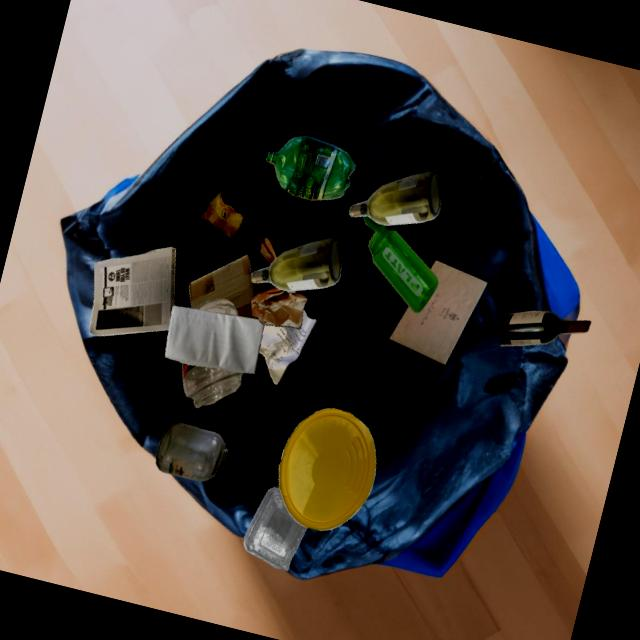biowaste: (201, 192, 243, 239)
cardboard: (188, 254, 267, 319)
glass: (349, 171, 440, 225), (251, 238, 341, 291), (155, 422, 228, 481), (500, 310, 590, 346), (181, 362, 243, 408)
paper: (388, 260, 487, 364), (89, 247, 175, 336), (164, 305, 264, 373), (258, 308, 316, 384), (250, 286, 307, 328)
plastic: (278, 408, 375, 530), (362, 216, 438, 313), (266, 136, 355, 200), (243, 486, 307, 570)
